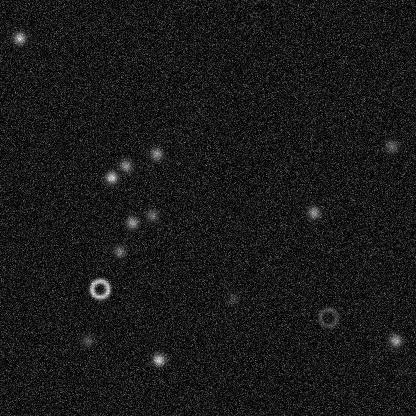Ring: (87, 276, 111, 300), (315, 305, 339, 329)
Spot: (103, 169, 119, 185), (224, 291, 240, 307), (117, 157, 133, 173), (387, 332, 403, 348), (79, 332, 95, 348), (143, 207, 159, 223), (150, 351, 166, 367), (11, 30, 27, 46), (383, 138, 399, 154), (148, 145, 164, 161), (305, 204, 321, 220), (111, 243, 127, 259), (124, 214, 140, 230)
